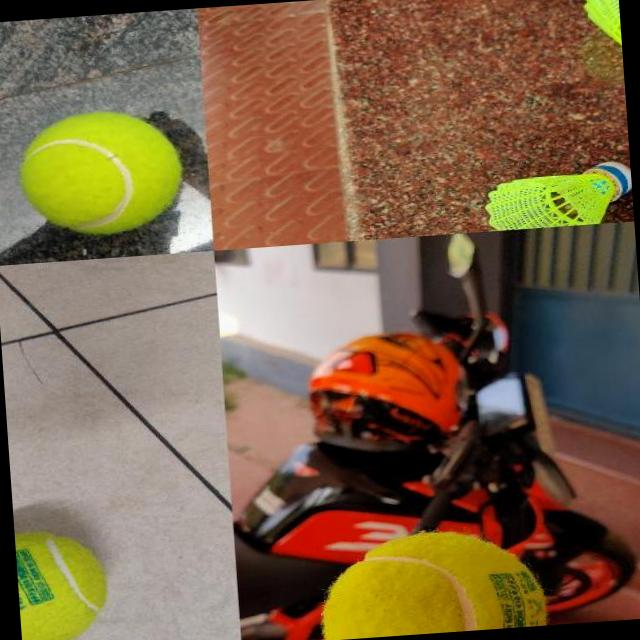Tennis Ball: (318, 524, 548, 640), (15, 106, 186, 240), (15, 525, 111, 640)
